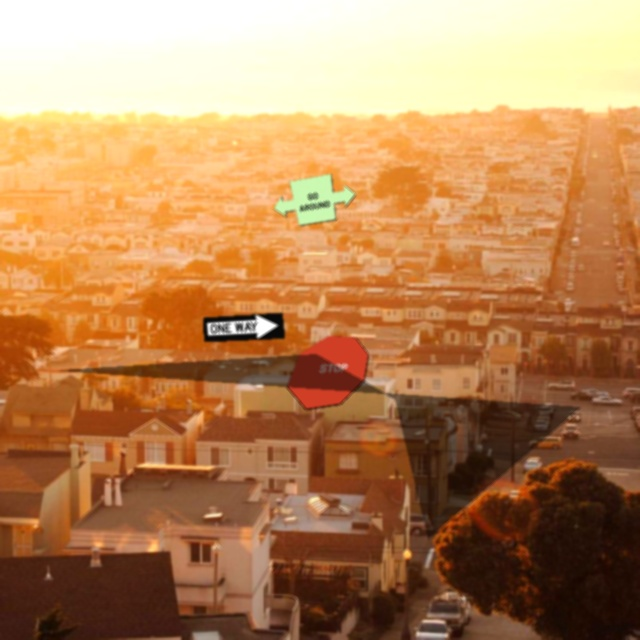GO_AROUND: (273, 173, 356, 226)
ONE_WAY_ right: (202, 312, 285, 342)
STOP: (286, 335, 369, 410)
